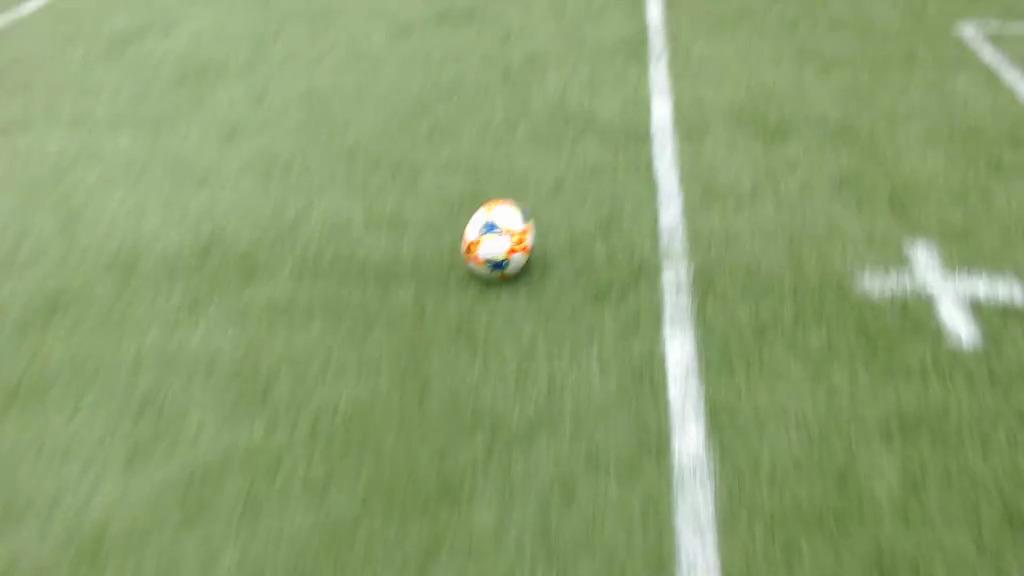ball: (461, 200, 534, 282)
